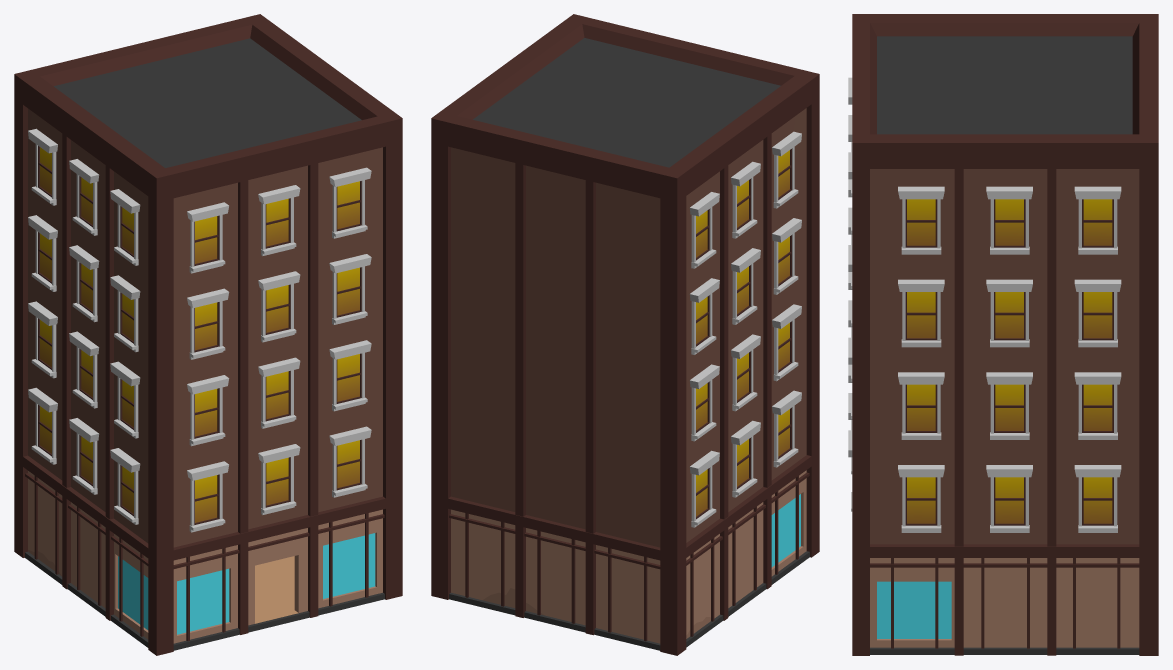
The model's file is SM_Buildings_Office_07.fbx.
3 views of the same model, side by side, from view 1: azimuth 30°, elevation 25°; view 2: azimuth 150°, elevation 25°; view 3: azimuth 270°, elevation 25° (orthographic). The views are drawn at different scales.
Visible parts, largest first — view 1: SM_Buildings_Office_07; view 2: SM_Buildings_Office_07; view 3: SM_Buildings_Office_07.
Boxes of the visible parts, bbox=[...] form: SM_Buildings_Office_07: bbox=[14, 14, 402, 655]; SM_Buildings_Office_07: bbox=[431, 14, 819, 655]; SM_Buildings_Office_07: bbox=[848, 14, 1158, 655].
Size of the model in its own units: 10.31 by 18.59 by 10.19.
